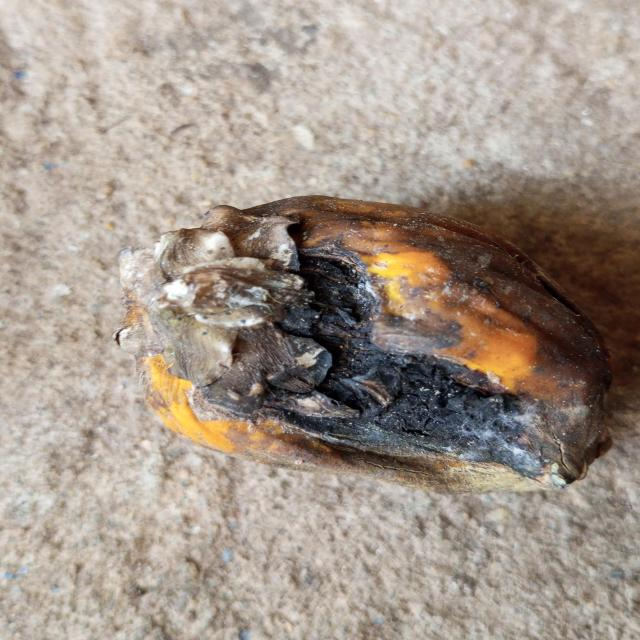damaged: (118, 195, 616, 496)
